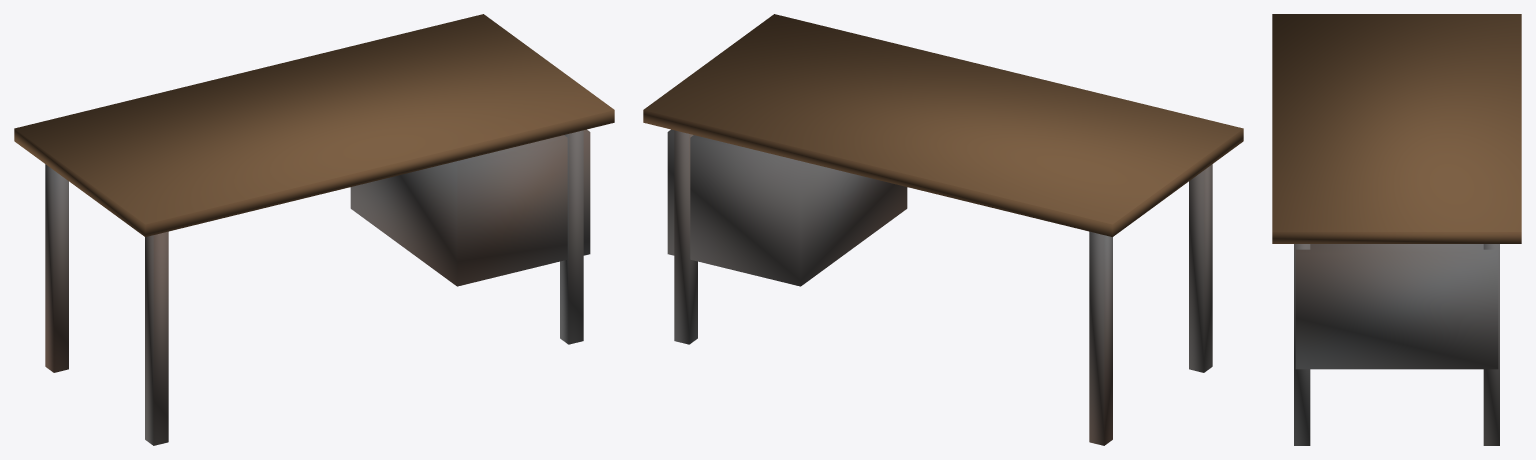
File: Meja_Kerja_Arsip.fbx
3 renders of one model, left to right at view 1: azimuth 30°, elevation 25°; view 2: azimuth 150°, elevation 25°; view 3: azimuth 270°, elevation 25°, orthographic. The views are drawn at different scales.
Visible parts, largest first — view 1: Meja_Kerja_Arsip; view 2: Meja_Kerja_Arsip; view 3: Meja_Kerja_Arsip.
Part boxes in pixels (x1,y1,x2,y2): Meja_Kerja_Arsip: [14, 14, 614, 445]; Meja_Kerja_Arsip: [643, 14, 1243, 445]; Meja_Kerja_Arsip: [1272, 14, 1521, 445].
Size of the model in its own units: 1.55 by 0.74 by 0.75.
